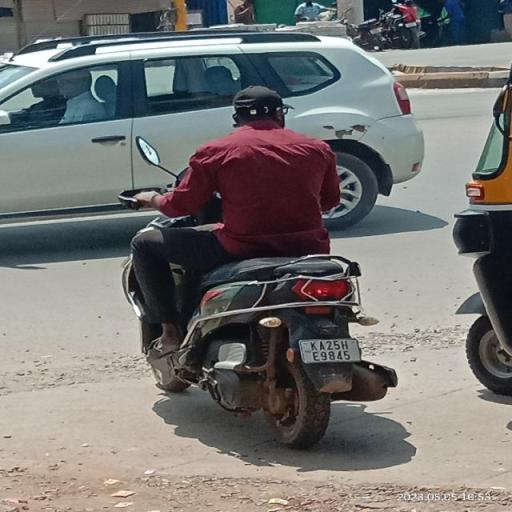bike: (106, 72, 408, 450)
numberplate: (302, 340, 367, 362)
withouthelmet: (231, 86, 280, 124)
